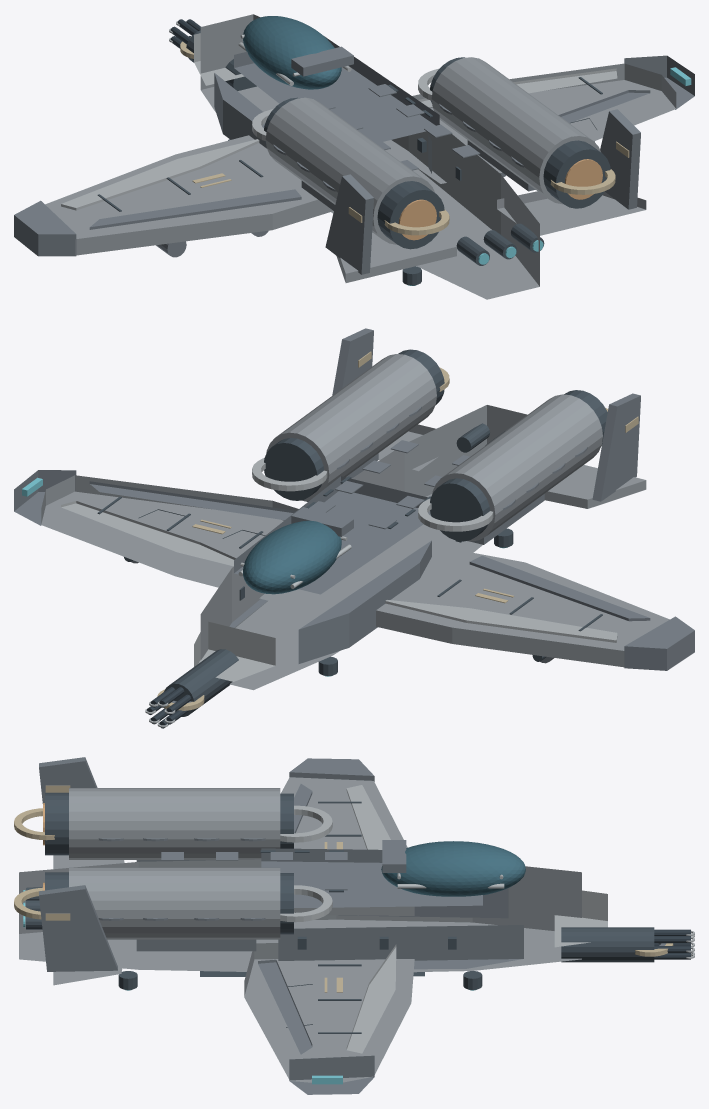
The model's file is br10-shrike.glb.
3 views of the same model, one above another, from view 1: azimuth 30°, elevation 25°; view 2: azimuth 150°, elevation 25°; view 3: azimuth 270°, elevation 25° (orthographic).
Visible parts, largest first — view 1: main_wing_000, main_hull_000, engine_nacelle_001, engine_nacelle_000, upper_spine_000, main_wing_001, canopy_000, vertical_tail_000, tailplane_001, vertical_tail_001, wing_leading_plate_000, tailplane_000 (+19 smaller); view 2: main_wing_000, main_hull_000, main_wing_001, engine_nacelle_000, engine_nacelle_001, upper_spine_000, cheek_armor_000, canopy_000, vertical_tail_000, wing_leading_plate_000, nose_cap_000, wingtip_pod_000 (+13 smaller); view 3: engine_nacelle_000, engine_nacelle_001, main_hull_000, main_wing_001, cheek_armor_001, upper_spine_000, canopy_000, main_wing_000, vertical_tail_001, cannon_shroud_000, wingtip_pod_001, wing_leading_plate_001 (+16 smaller).
Boxes of the visible parts, x1,y1,x2,y2 form: main_wing_000: [45, 135, 332, 255]; main_hull_000: [200, 14, 539, 299]; engine_nacelle_001: [431, 57, 600, 204]; engine_nacelle_000: [265, 97, 434, 244]; upper_spine_000: [234, 36, 439, 141]; main_wing_001: [383, 63, 676, 183]; canopy_000: [243, 16, 341, 89]; vertical_tail_000: [325, 174, 373, 274]; tailplane_001: [497, 191, 646, 235]; vertical_tail_001: [600, 109, 640, 209]; wing_leading_plate_000: [61, 139, 259, 210]; tailplane_000: [336, 232, 456, 282]; main_wing_000: [376, 547, 669, 667]; main_hull_000: [200, 405, 527, 690]; main_wing_001: [41, 475, 298, 600]; engine_nacelle_000: [432, 394, 602, 541]; engine_nacelle_001: [266, 354, 436, 500]; upper_spine_000: [234, 476, 431, 594]; cheek_armor_000: [298, 540, 431, 663]; canopy_000: [243, 520, 341, 594]; vertical_tail_000: [592, 393, 640, 501]; wing_leading_plate_000: [385, 600, 617, 642]; nose_cap_000: [194, 621, 275, 681]; wingtip_pod_000: [624, 616, 694, 670]; engine_nacelle_000: [69, 788, 280, 859]; engine_nacelle_001: [69, 867, 280, 939]; main_hull_000: [19, 859, 581, 972]; main_wing_001: [244, 943, 414, 1082]; cheek_armor_001: [278, 925, 523, 969]; upper_spine_000: [261, 848, 482, 907]; canopy_000: [381, 841, 525, 896]; main_wing_000: [281, 777, 414, 915]; vertical_tail_001: [39, 885, 117, 971]; cannon_shroud_000: [561, 927, 654, 962]; wingtip_pod_001: [289, 1055, 374, 1094]; wing_leading_plate_001: [346, 944, 396, 1053].
Bounding box in the file's own units: 10.92 × 2.33 × 9.98.
